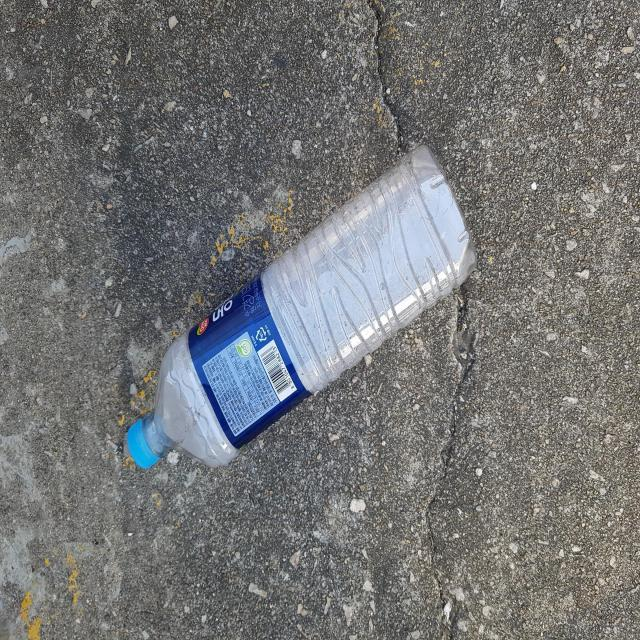plastic: (124, 145, 477, 468)
